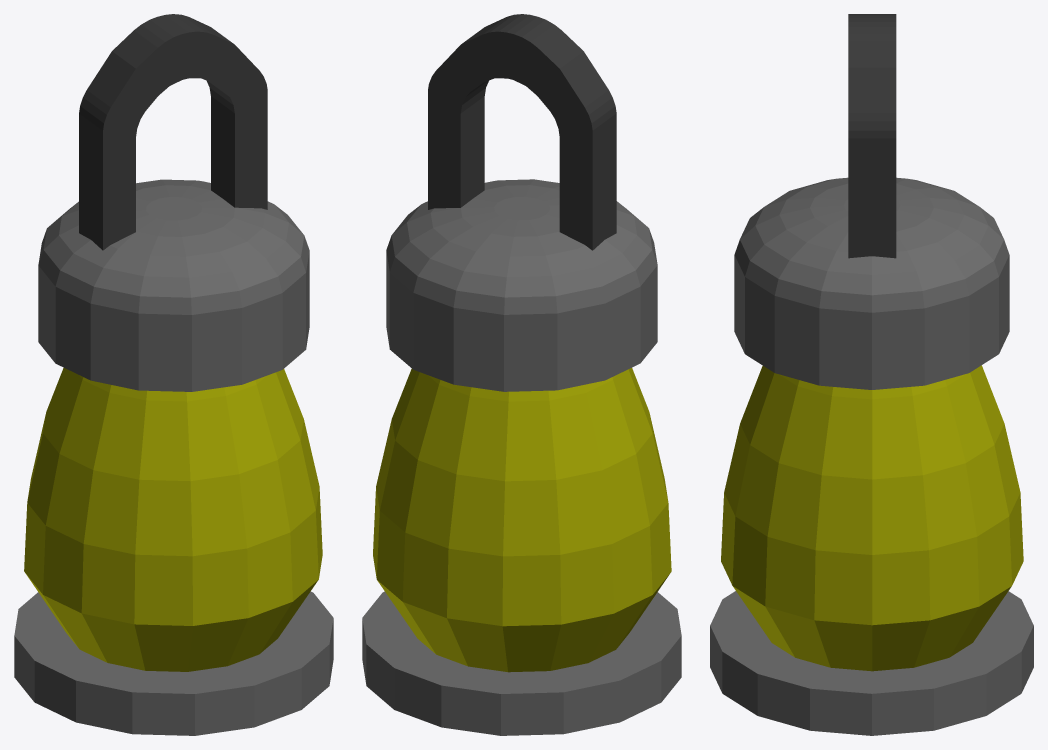
File: Lantern.fbx
3 views of the same model, side by side, from view 1: azimuth 30°, elevation 25°; view 2: azimuth 150°, elevation 25°; view 3: azimuth 270°, elevation 25° (orthographic).
Parts seen in each view (by area): view 1: Cylinder.016; view 2: Cylinder.016; view 3: Cylinder.016.
Boxes of the visible parts, x1,y1,x2,y2 form: Cylinder.016: (14,14,333,735); Cylinder.016: (362,14,681,735); Cylinder.016: (710,14,1033,735).
Bounding box in the file's own units: 71.84 × 159 × 71.84.
